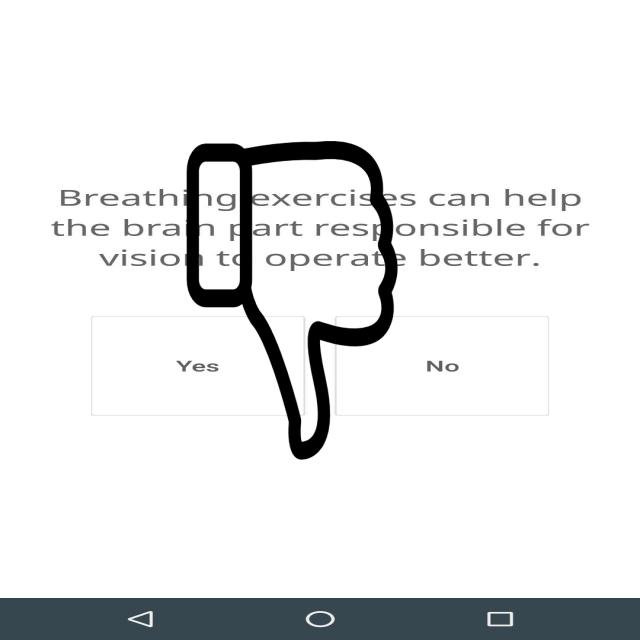obstruction: (184, 141, 400, 460)
